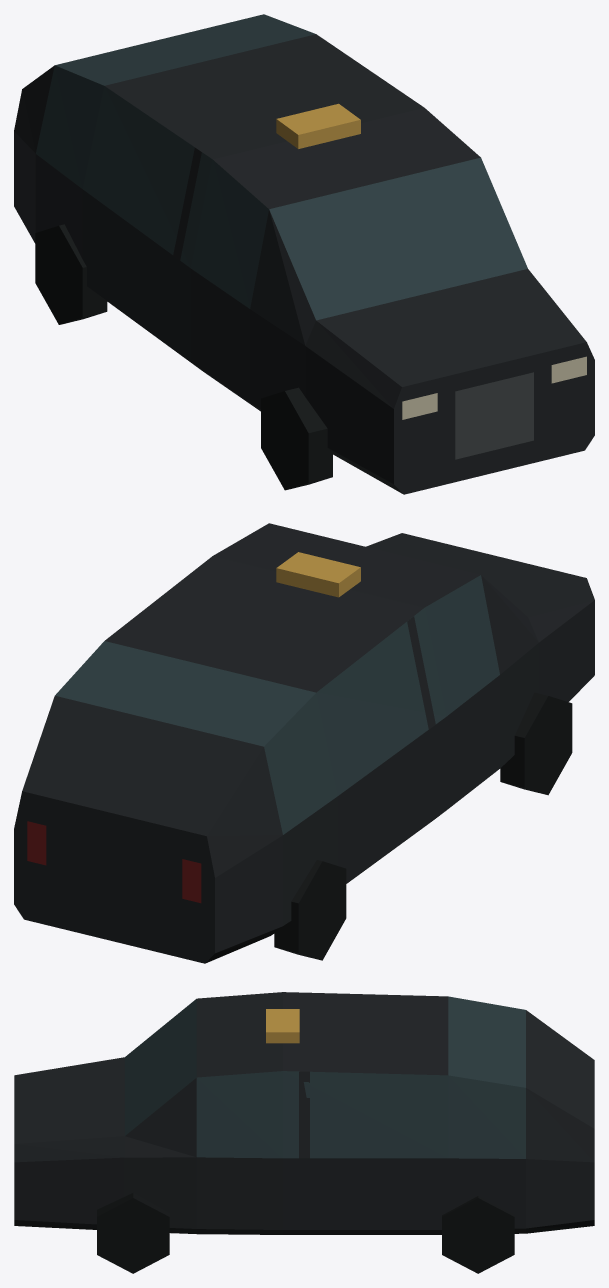
The model's file is taksi-1-uusi.glb.
The picture shows the model from 3 angles, top to bottom: view 1: azimuth 30°, elevation 25°; view 2: azimuth 150°, elevation 25°; view 3: azimuth 270°, elevation 25°; orthographic projection. The views are drawn at different scales.
Parts seen in each view (by area): view 1: taksi-1-uusi; view 2: taksi-1-uusi; view 3: taksi-1-uusi.
Boxes of the visible parts, x1,y1,x2,y2 form: taksi-1-uusi: (14,14,594,494); taksi-1-uusi: (14,523,594,963); taksi-1-uusi: (14,992,594,1273).
Size of the model in its own units: 1.94 by 1.88 by 4.85.
